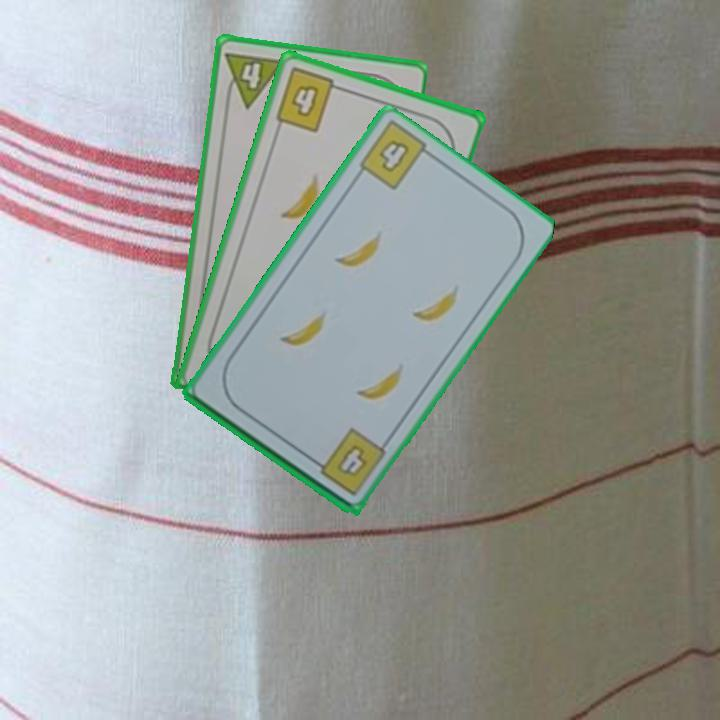4b: (306, 424, 389, 499), (271, 64, 347, 135), (375, 135, 413, 175)
4p: (221, 47, 287, 111)
